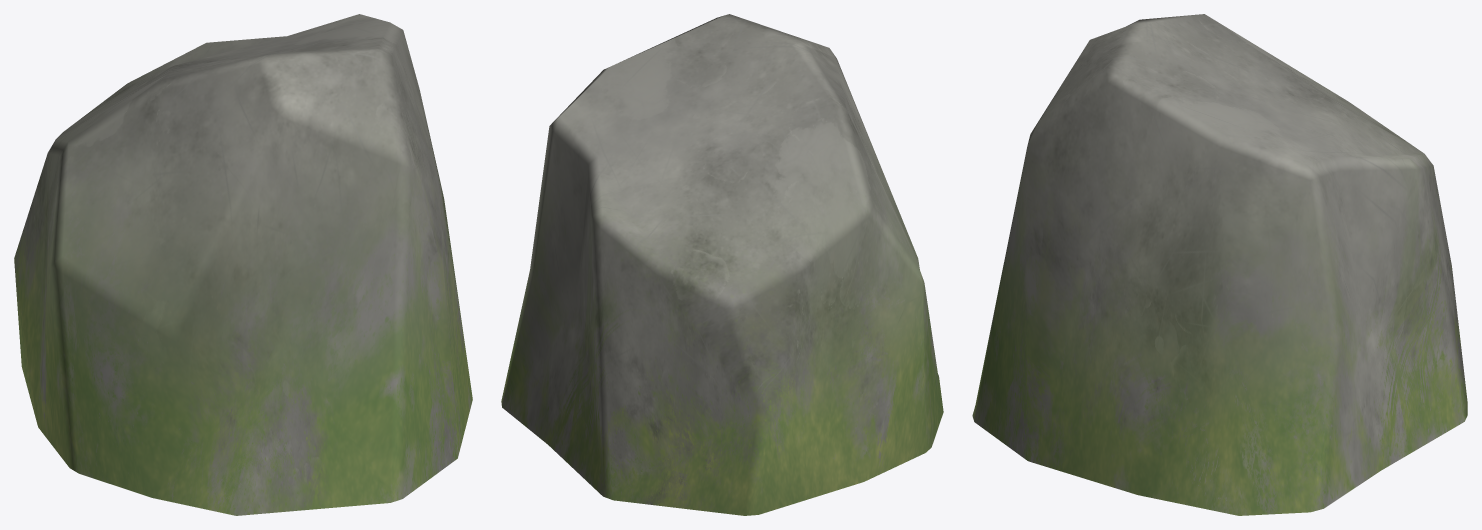
The model's file is boulder_rounded-mossy_medium-high.fbx.
3 views of the same model, side by side, from view 1: azimuth 30°, elevation 25°; view 2: azimuth 150°, elevation 25°; view 3: azimuth 270°, elevation 25° (orthographic). The views are drawn at different scales.
Visible parts, largest first — view 1: boulder_rounded_mossy_medium_high; view 2: boulder_rounded_mossy_medium_high; view 3: boulder_rounded_mossy_medium_high.
Boxes of the visible parts, x1,y1,x2,y2 form: boulder_rounded_mossy_medium_high: (14, 14, 472, 515); boulder_rounded_mossy_medium_high: (501, 14, 943, 515); boulder_rounded_mossy_medium_high: (972, 14, 1467, 515).
Size of the model in its own units: 94.96 by 83.39 by 99.12.
